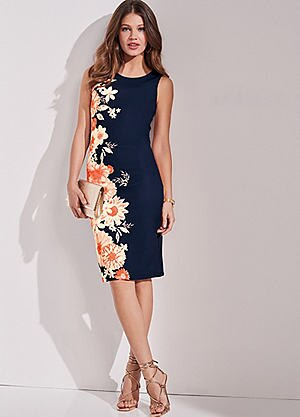C_dress: (80, 56, 176, 281)
